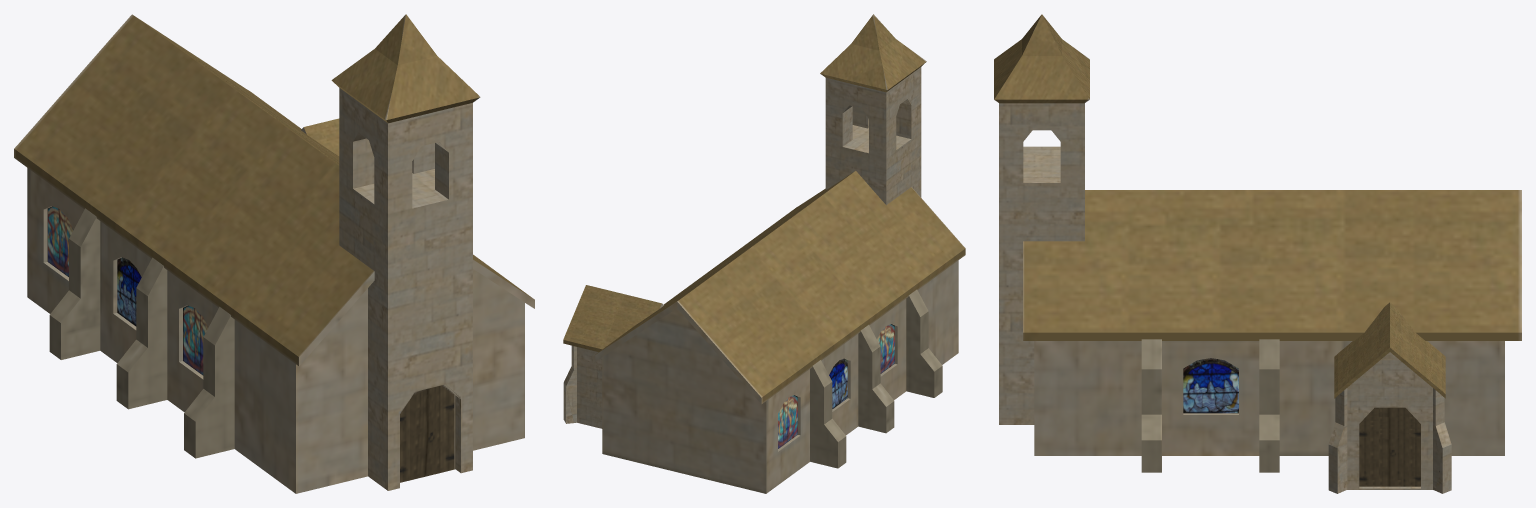
Rendered from church.fbx.
3 renders of one model, left to right at view 1: azimuth 30°, elevation 25°; view 2: azimuth 150°, elevation 25°; view 3: azimuth 270°, elevation 25°, orthographic. The views are drawn at different scales.
Parts seen in each view (by area): view 1: ChurchBody, ChurchTower, ChurchSide; view 2: ChurchBody, ChurchTower, ChurchSide; view 3: ChurchBody, ChurchTower, ChurchSide.
Part boxes in pixels (bbox=[...]): ChurchBody: bbox=[14, 14, 534, 493]; ChurchTower: bbox=[331, 14, 480, 490]; ChurchSide: bbox=[301, 118, 339, 155]; ChurchBody: bbox=[592, 171, 965, 493]; ChurchTower: bbox=[820, 14, 926, 205]; ChurchSide: bbox=[563, 285, 663, 428]; ChurchBody: bbox=[1023, 190, 1521, 472]; ChurchTower: bbox=[994, 14, 1089, 424]; ChurchSide: bbox=[1328, 302, 1451, 493].
Size of the model in its own units: 3440 by 4130 by 5026.
